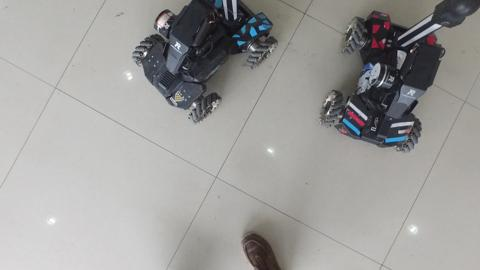chariot: (319, 1, 479, 158), (131, 1, 280, 131)
